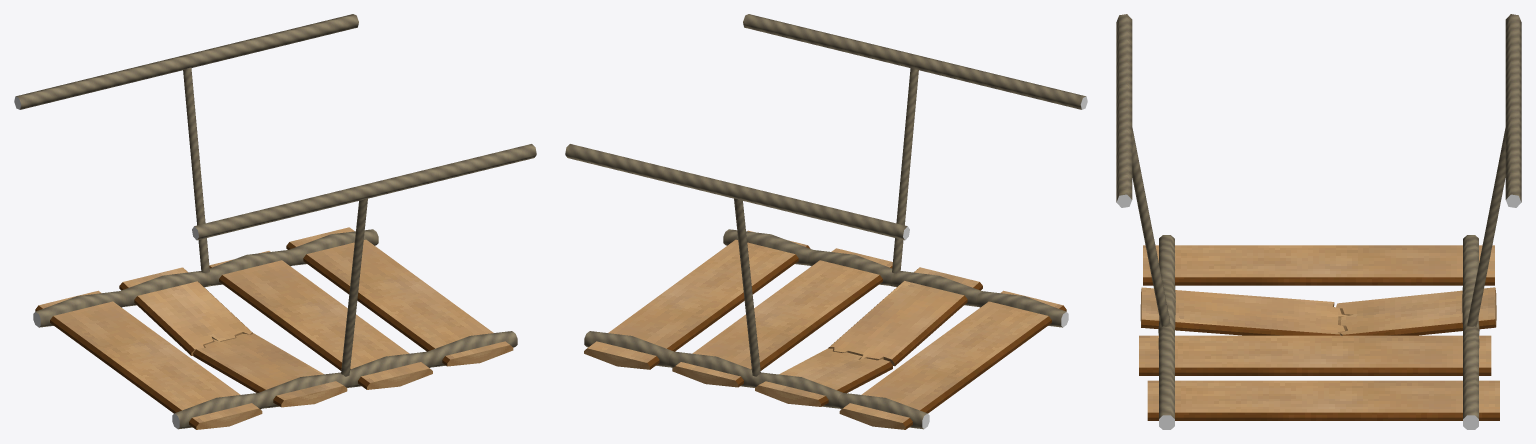
Rendered from Prop_Bridge_Rope_Middle_Cracked_1_1x1.glb.
3 views of the same model, side by side, from view 1: azimuth 30°, elevation 25°; view 2: azimuth 150°, elevation 25°; view 3: azimuth 270°, elevation 25° (orthographic). The views are drawn at different scales.
Parts seen in each view (by area): view 1: Prop_Bridge_Rope_Middle_Cracked_1_1x1; view 2: Prop_Bridge_Rope_Middle_Cracked_1_1x1; view 3: Prop_Bridge_Rope_Middle_Cracked_1_1x1.
Boxes of the visible parts, <box> form: Prop_Bridge_Rope_Middle_Cracked_1_1x1: <box>14,14,536,429</box>; Prop_Bridge_Rope_Middle_Cracked_1_1x1: <box>565,14,1087,429</box>; Prop_Bridge_Rope_Middle_Cracked_1_1x1: <box>1116,14,1521,429</box>.
Bounding box in the file's own units: 1 × 0.6437 × 0.9484.
Materials: 5 (4 with a texture image).
